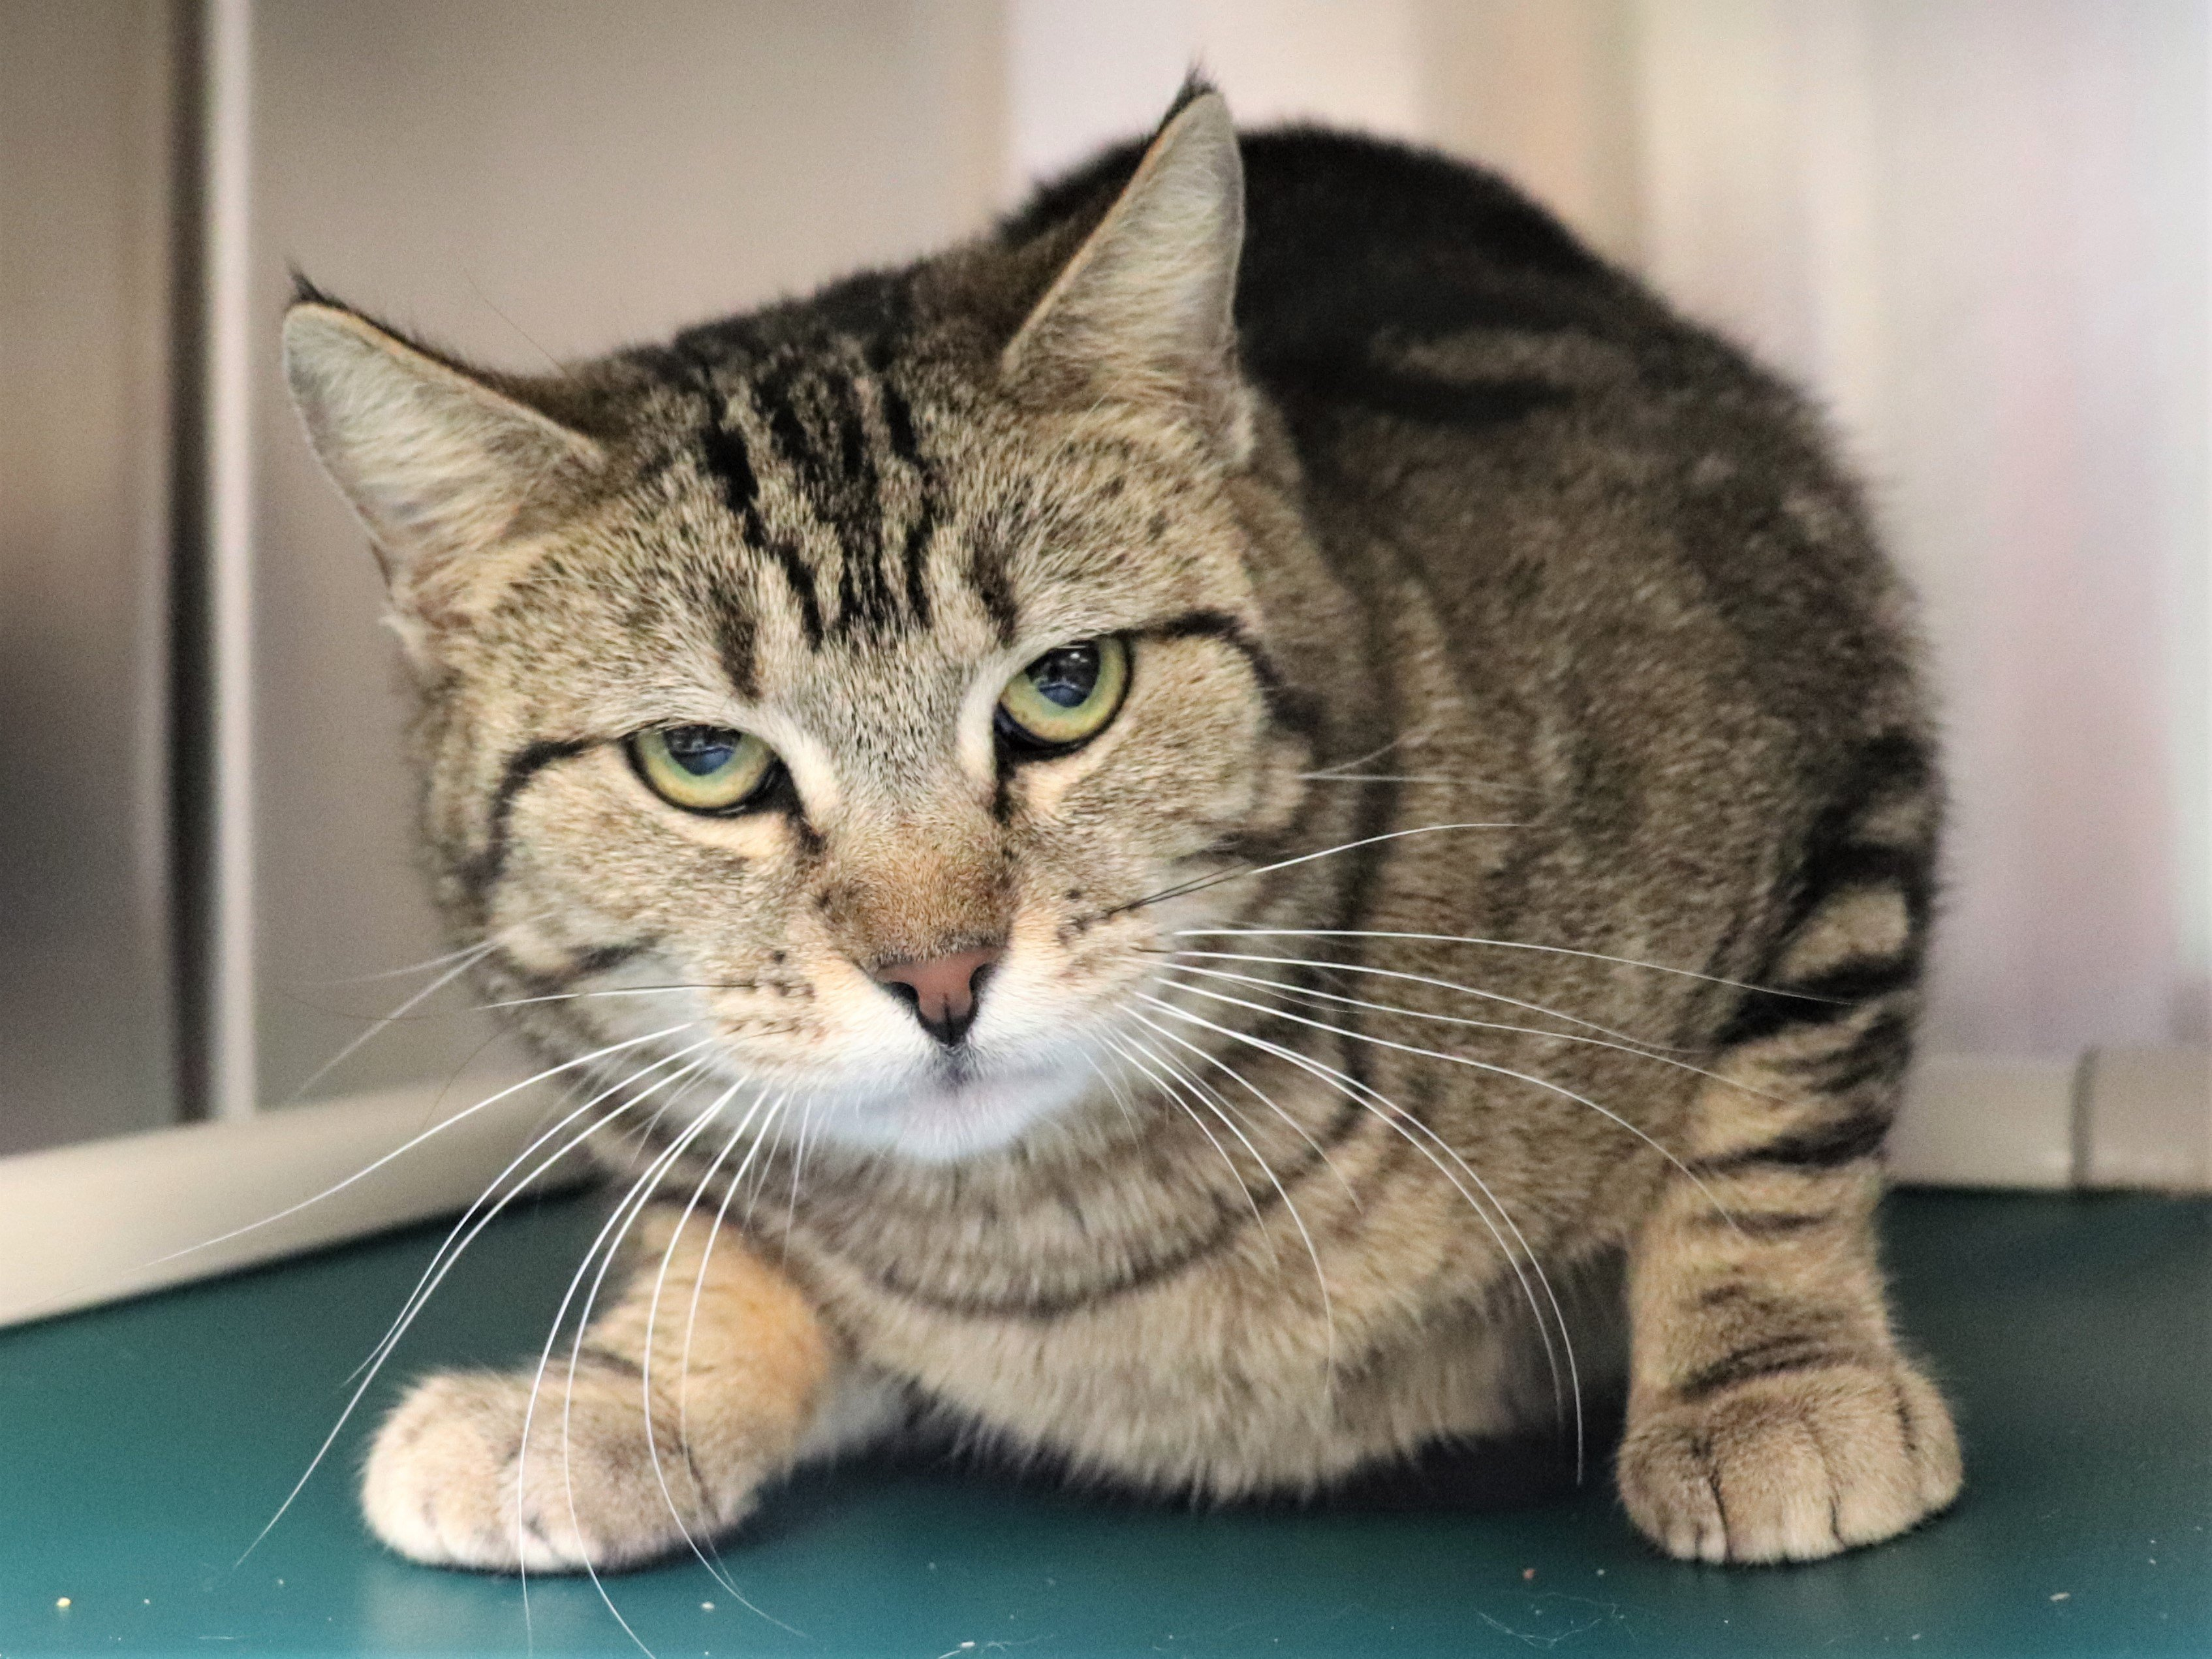cat: (249, 49, 1958, 1556)
